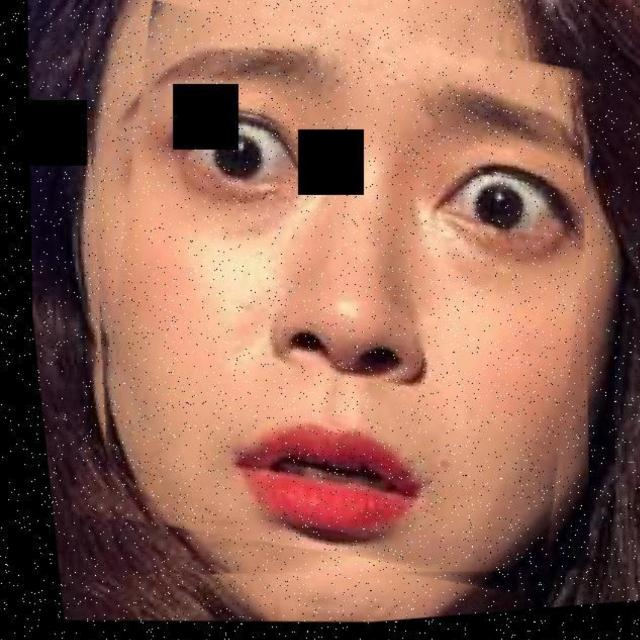Surprised: (51, 13, 640, 640)
